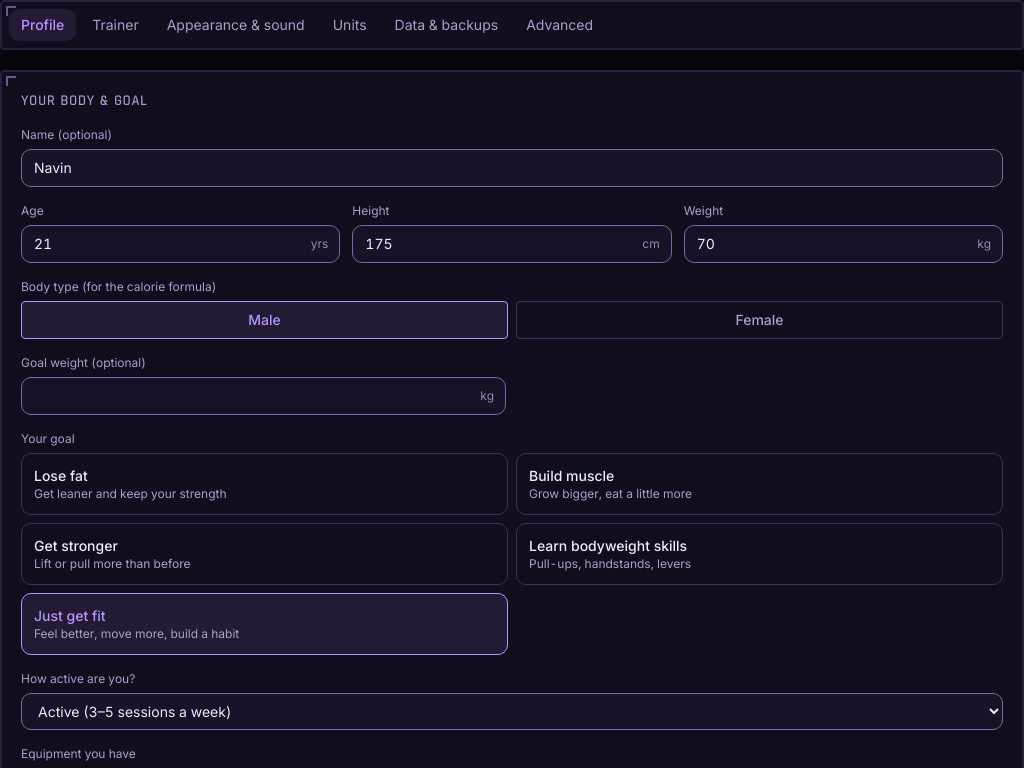
Test: SettingsPage › keeps the old value when saving fails
Click the button "Units" at (350, 25), box [321, 9, 379, 41]
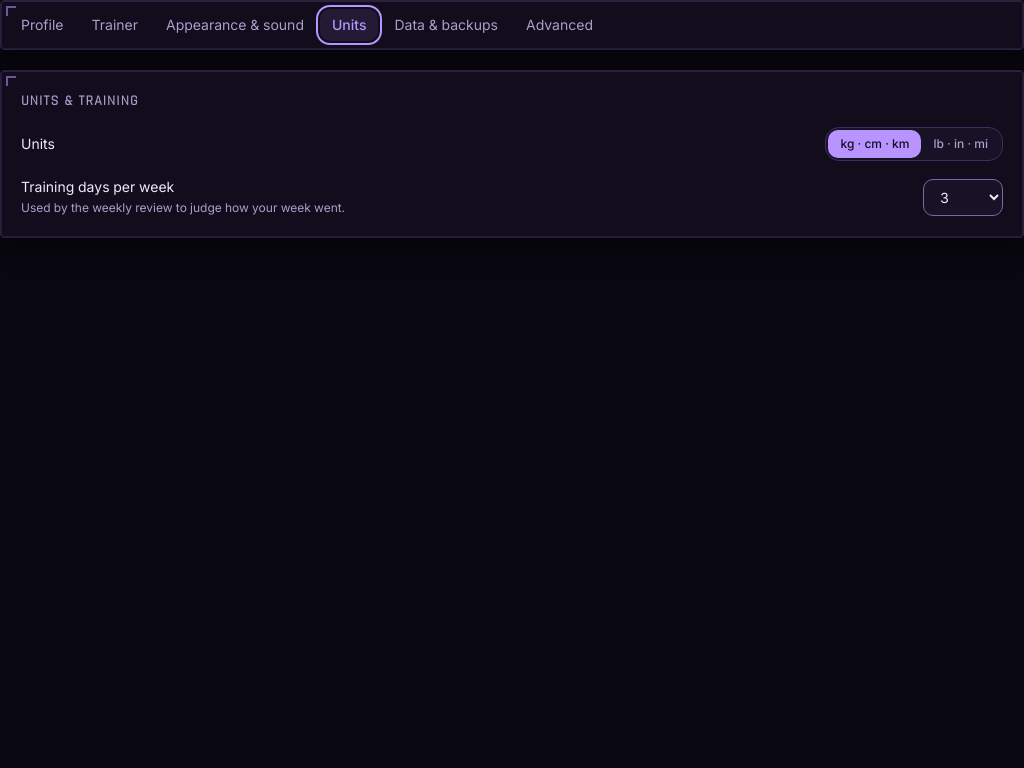
Click the radio button labelled "lb · in · mi" at (961, 144), box [934, 136, 988, 151]
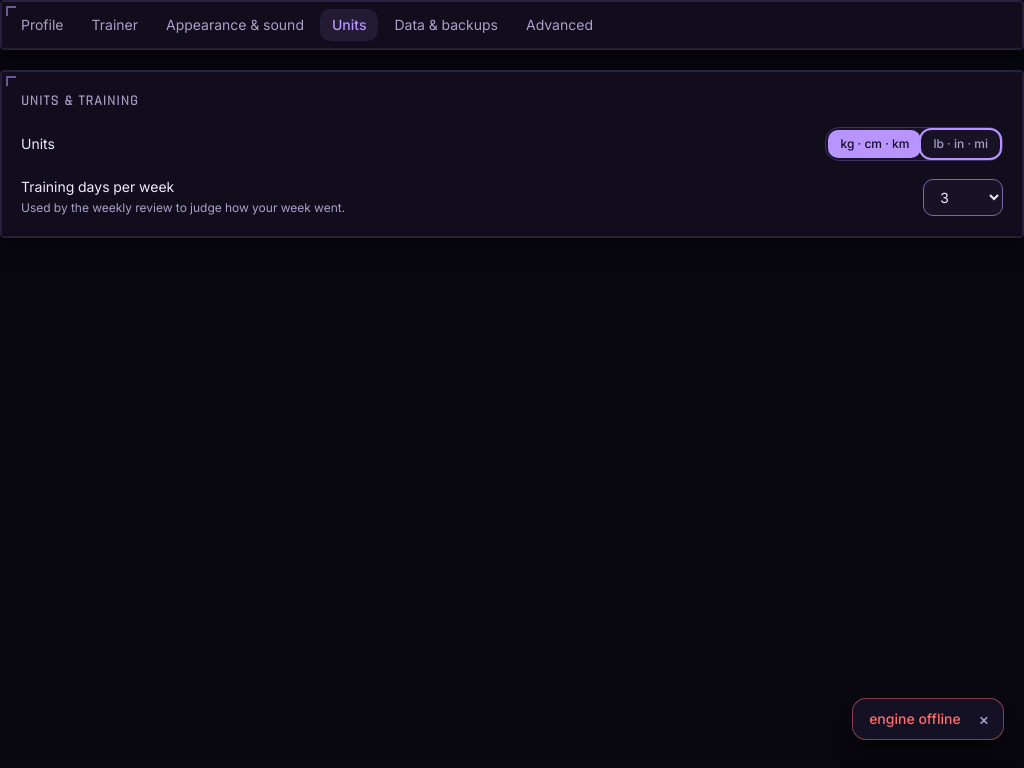
Check: the radio button labelled "kg · cm · km" is checked, box [828, 130, 922, 158]
Check: the text "engine offline" is shown, box [869, 709, 961, 729]
